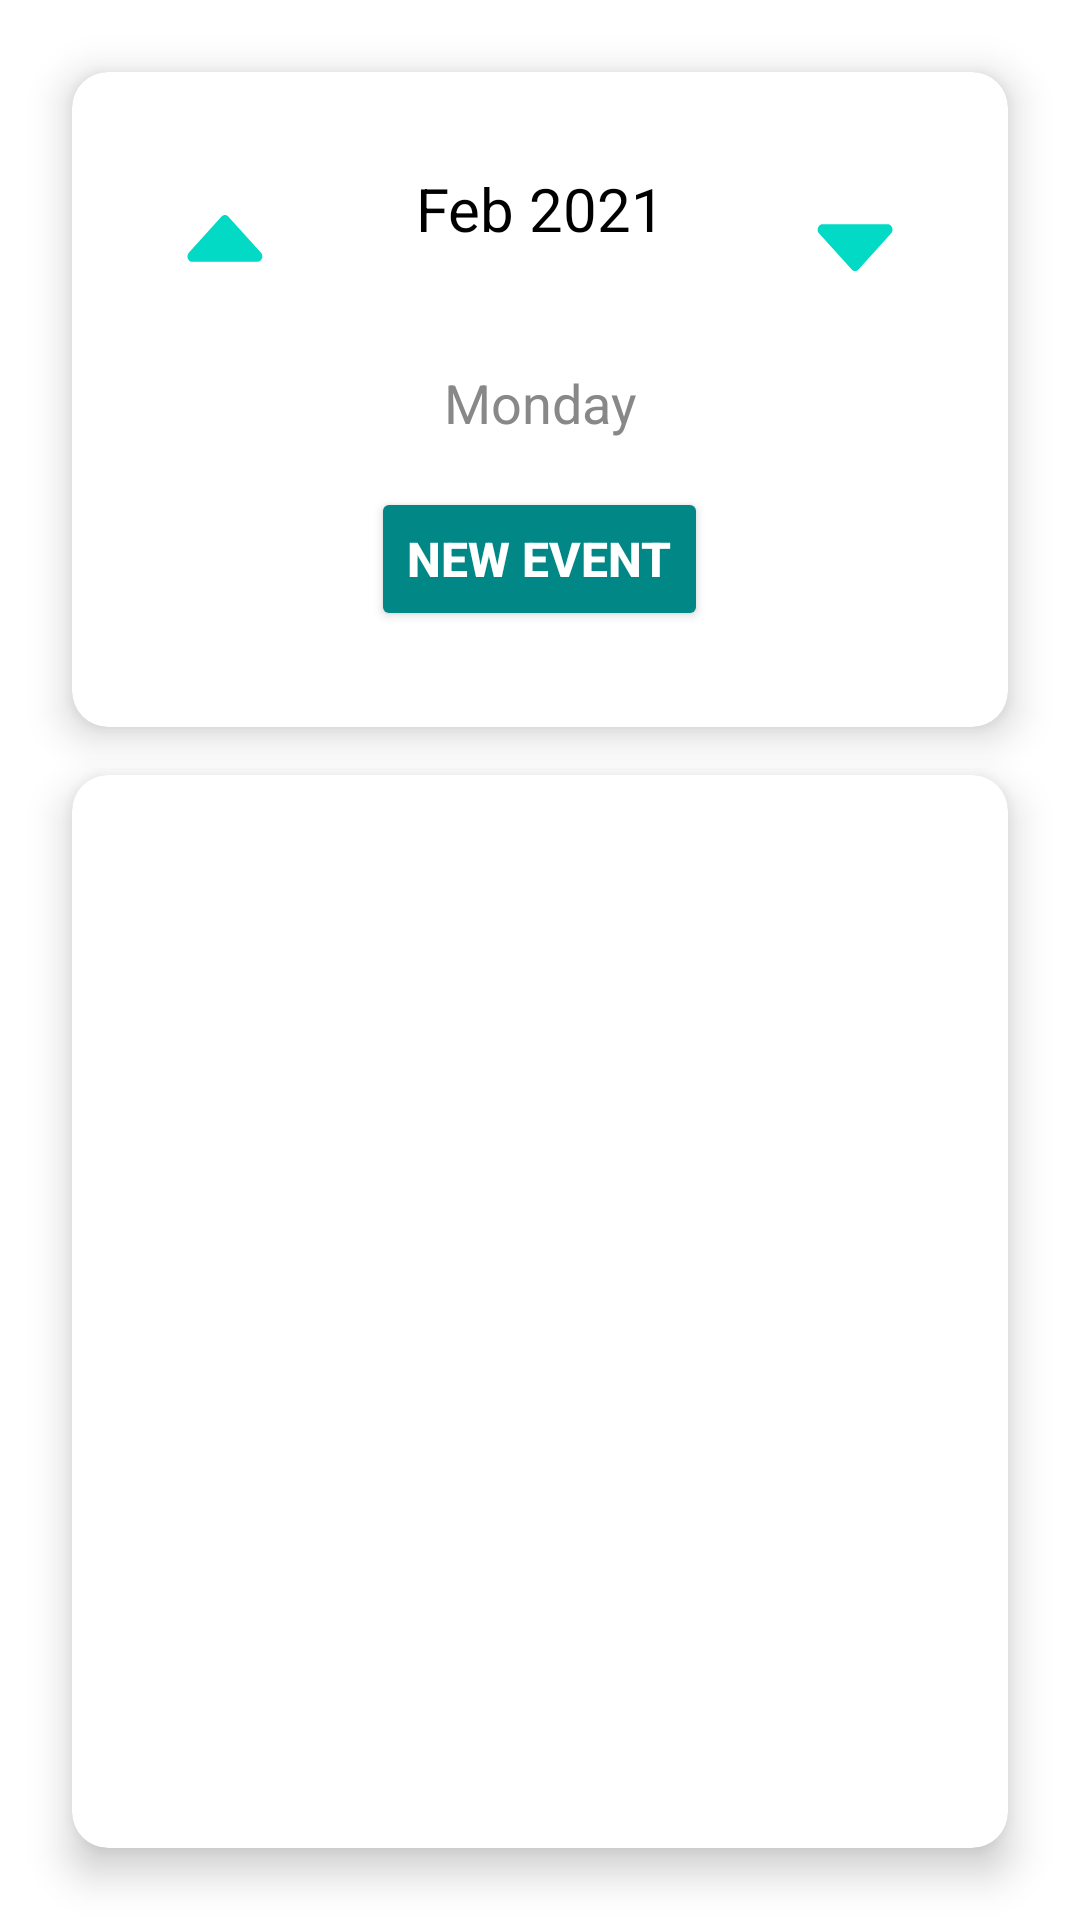

Icon bounding boxes for this 1080×1920 phone screenshot, format (x1, y1, x2, y2):
Next Day: (817, 224, 893, 271)
Previous Day: (187, 215, 263, 262)
